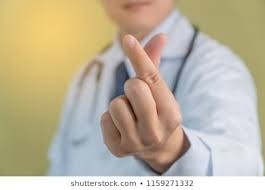oneheart: (90, 31, 214, 155)
